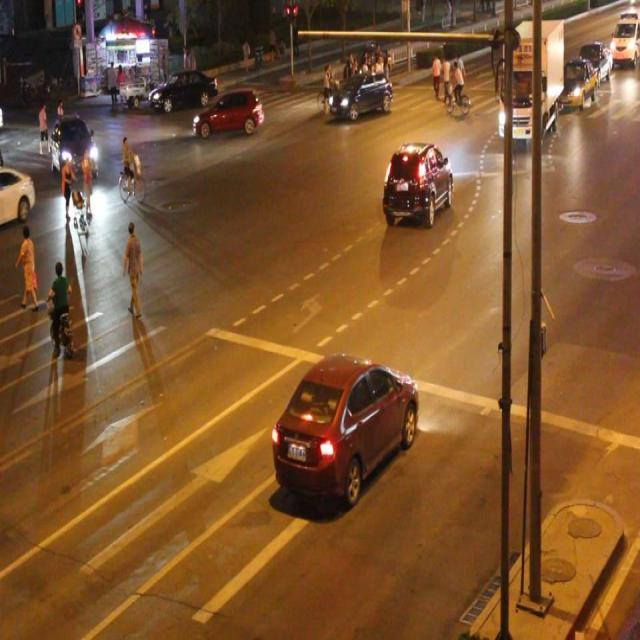bus: (496, 17, 564, 144)
car: (270, 353, 417, 496), (384, 142, 451, 222), (191, 89, 263, 139), (328, 69, 392, 119), (49, 117, 99, 179), (150, 68, 217, 111), (1, 165, 35, 226)
